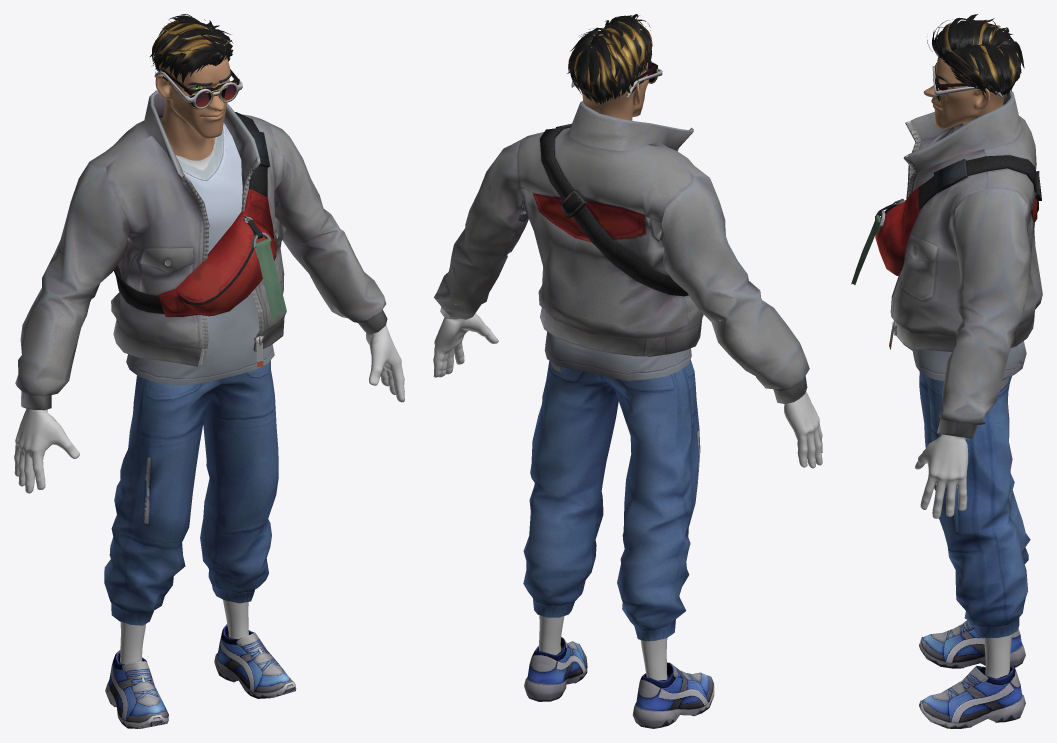
File: M Character 1.fbx
The picture shows the model from 3 angles, left to right: view 1: azimuth 30°, elevation 25°; view 2: azimuth 150°, elevation 25°; view 3: azimuth 270°, elevation 25°; orthographic projection.
Parts seen in each view (by area): view 1: M_jacket, M_pants 1, M_t shirt 1, M_shoes 1, m_body, m_head, M_hair 1, m_legs, M_glasses; view 2: M_jacket, M_pants 1, M_shoes 1, M_hair 1, m_body, M_t shirt 1, m_legs, m_head; view 3: M_jacket, M_pants 1, M_shoes 1, M_hair 1, m_body, m_head, M_t shirt 1, m_legs.
Part boxes in pixels (x1=…): M_jacket: x1=15, y1=90, x2=387, y2=410; M_pants 1: x1=104, y1=360, x2=278, y2=625; M_t shirt 1: x1=126, y1=117, x2=278, y2=385; M_shoes 1: x1=105, y1=624, x2=296, y2=728; m_body: x1=14, y1=145, x2=404, y2=493; m_head: x1=155, y1=55, x2=231, y2=160; M_hair 1: x1=150, y1=14, x2=233, y2=83; m_legs: x1=120, y1=600, x2=248, y2=664; M_glasses: x1=154, y1=71, x2=242, y2=109; M_jacket: x1=434, y1=101, x2=809, y2=403; M_pants 1: x1=523, y1=359, x2=700, y2=641; M_shoes 1: x1=524, y1=637, x2=714, y2=728; M_hair 1: x1=567, y1=14, x2=652, y2=104; m_body: x1=433, y1=303, x2=822, y2=468; M_t shirt 1: x1=488, y1=184, x2=691, y2=380; m_legs: x1=538, y1=615, x2=667, y2=680; m_head: x1=575, y1=47, x2=650, y2=120; M_jacket: x1=851, y1=91, x2=1042, y2=438; M_pants 1: x1=919, y1=372, x2=1030, y2=637; M_shoes 1: x1=919, y1=620, x2=1025, y2=728; M_hair 1: x1=927, y1=14, x2=1024, y2=98; m_body: x1=915, y1=434, x2=968, y2=518; m_head: x1=923, y1=56, x2=1005, y2=129; M_t shirt 1: x1=912, y1=240, x2=1026, y2=381; m_legs: x1=983, y1=634, x2=1011, y2=678.
Bounding box in the file's own units: 117 × 202 × 52.46.
